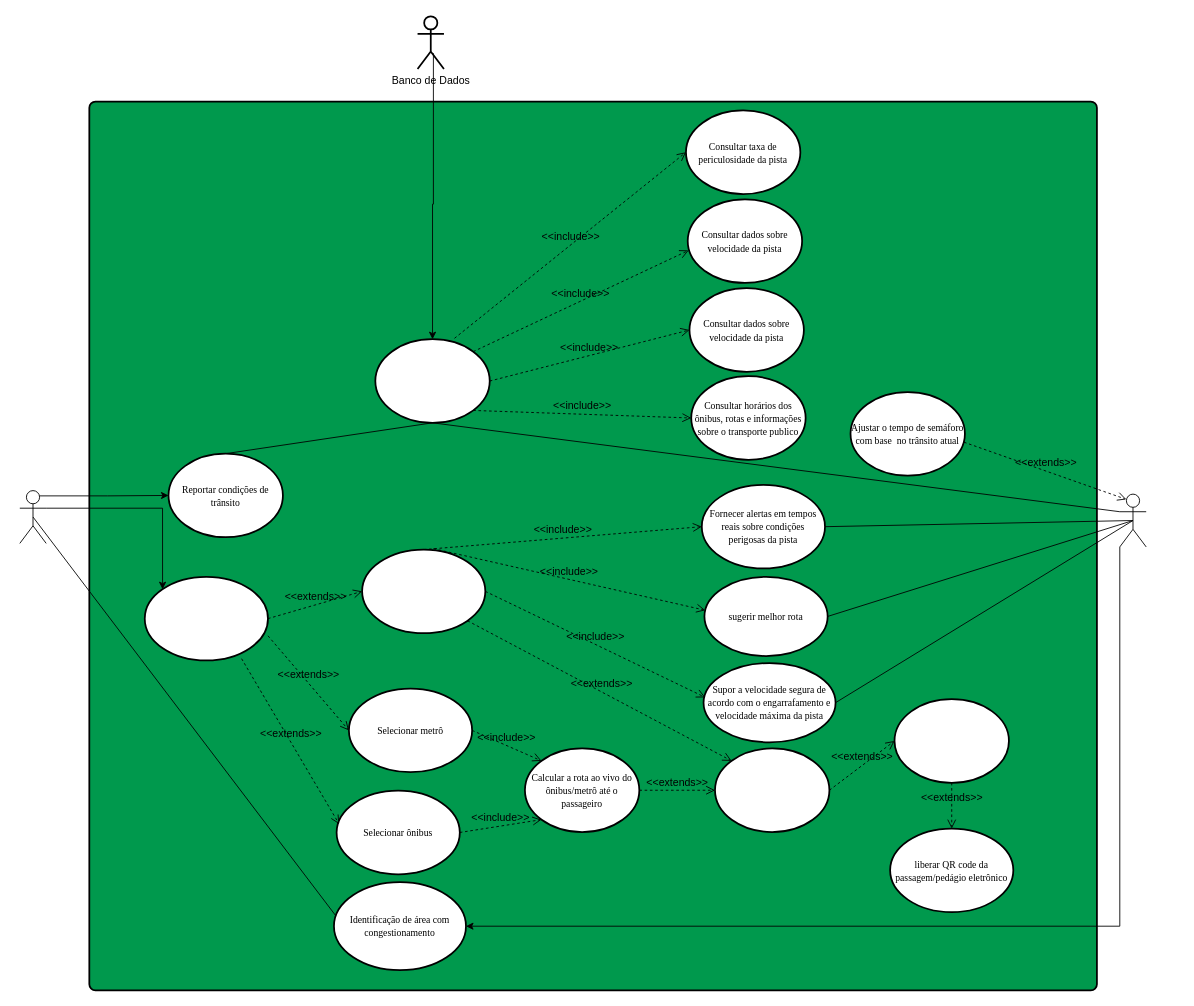
The diagram is 1194 pixels wide and 1006 high, and some of its shapes have lost their labels. The centre of each missing label's shape, as x and y in pixels:
"Fornecer dados" goes at (x=432, y=380).
"inteligência artificial" goes at (x=1132, y=520).
"ir para forma de pagamento" goes at (x=951, y=740).
"página de pagamentos" goes at (x=772, y=789).
"Selecionar carro própio" goes at (x=423, y=591).
"Selecionar tipo de transporte" goes at (x=205, y=618).
"Usuário" goes at (x=32, y=516).
